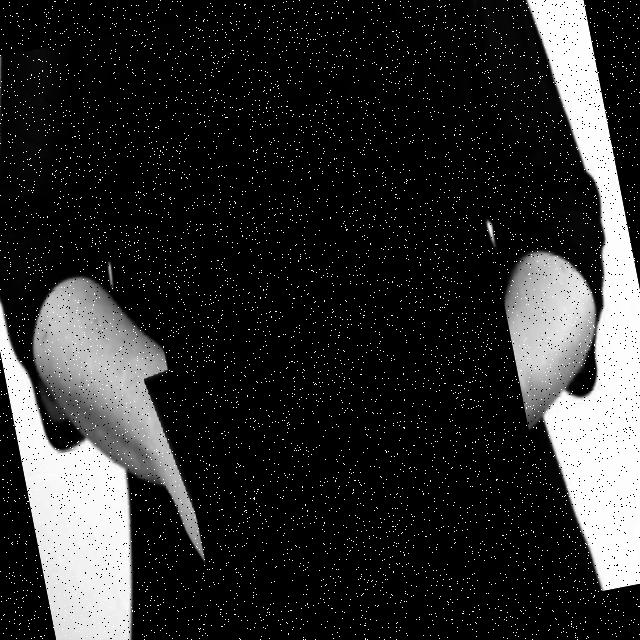I: (148, 262, 574, 640)
